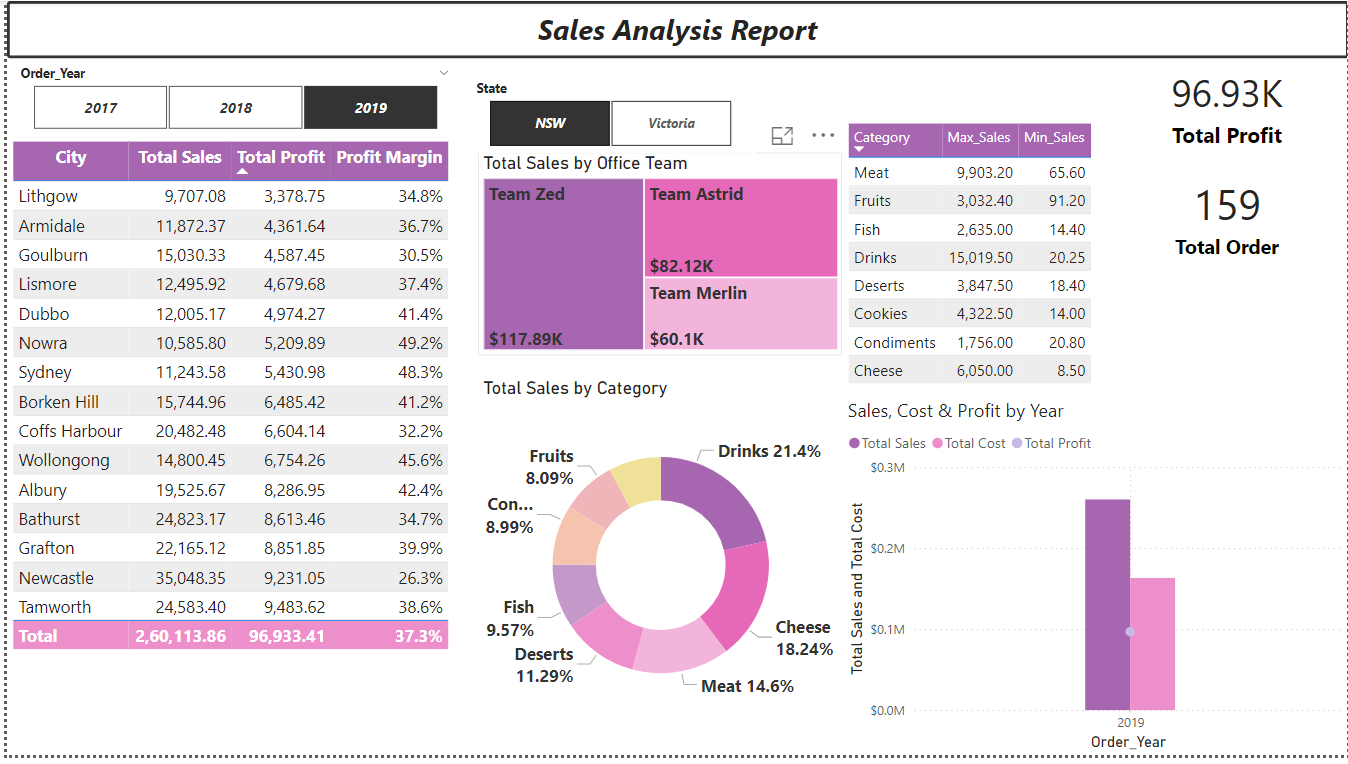

Layout of this report page (visuals, bound fields, positions):
{"tool":"powerbi","page":{"name":"Page 1","canvas":[1280,720],"ordinal":0},"visuals":[{"type":"textbox","box":[0,0,1281.3,54.8],"z":0},{"type":"tableEx","fields":{"Values":["Orders.CustomerCity","Sum(Orders.Sales)","Sum(Orders.Profit)","Orders.Profit Margin"]},"box":[0,128.6,449.2,569.8],"z":1000},{"type":"slicer","fields":{"Values":["Orders.Order_Year"]},"box":[0,55.6,434.9,73],"z":2000},{"type":"treemap","fields":{"Group":["Employees.Office Team"],"Values":["Orders.Total Sales"]},"box":[450,145,348.3,193.3],"z":3000},{"type":"donutChart","fields":{"Category":["Orders.Category"],"Y":["Orders.Total Sales"]},"box":[450,360,348.3,338.3],"z":4000},{"type":"tableEx","fields":{"Values":["Orders.Category","Orders.Max_Sales","Orders.Min_Sales"]},"box":[798.3,111.7,250,266.7],"z":5000},{"type":"lineClusteredColumnComboChart","title":"Sales, Cost & Profit by Year","fields":{"Category":["Orders.Order_Year"],"Y":["Orders.Total Sales","Orders.Total Cost"],"Y2":["Orders.Total Profit"]},"box":[798.3,378.3,481.7,341.7],"z":6000},{"type":"slicer","fields":{"Values":["Orders.State"]},"box":[435,70,280,75],"z":7000},{"type":"card","fields":{"Values":["Orders.Total Profit"]},"box":[1048.2,55.7,232.2,89.1],"z":8000},{"type":"card","fields":{"Values":["Orders.Total Order"]},"box":[1048.2,144.7,232.2,120.9],"z":9000}]}

Visuals, with their boxes in screenshot pixels (x1, y1, x2, y2), scaled from the page's 1280x720 canvas onto the 1348x764 screenshot:
textbox: 0:0:1347:58
tableEx - Orders.CustomerCity x Sum(Orders.Sales): 0:136:473:741
slicer - Orders.Order_Year: 0:59:458:136
treemap - Employees.Office Team x Orders.Total Sales: 474:154:841:359
donutChart - Orders.Category x Orders.Total Sales: 474:382:841:741
tableEx - Orders.Category x Orders.Max_Sales: 841:119:1104:402
"Sales, Cost & Profit by Year" lineClusteredColumnComboChart: 841:401:1347:763
slicer - Orders.State: 458:74:753:154
card - Orders.Total Profit: 1104:59:1347:154
card - Orders.Total Order: 1104:154:1347:282
